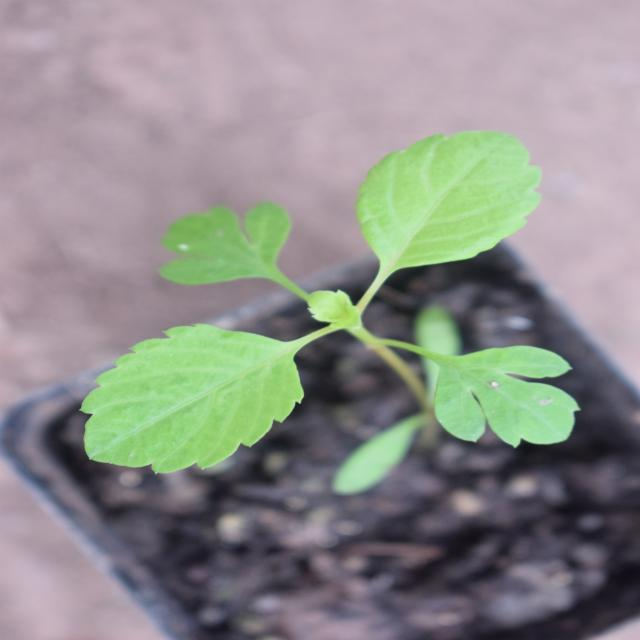Bidens pilosa: (122, 49, 477, 558)
